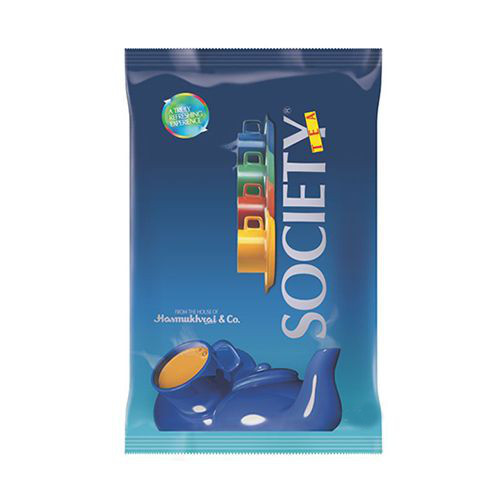society: (122, 68, 386, 459)
